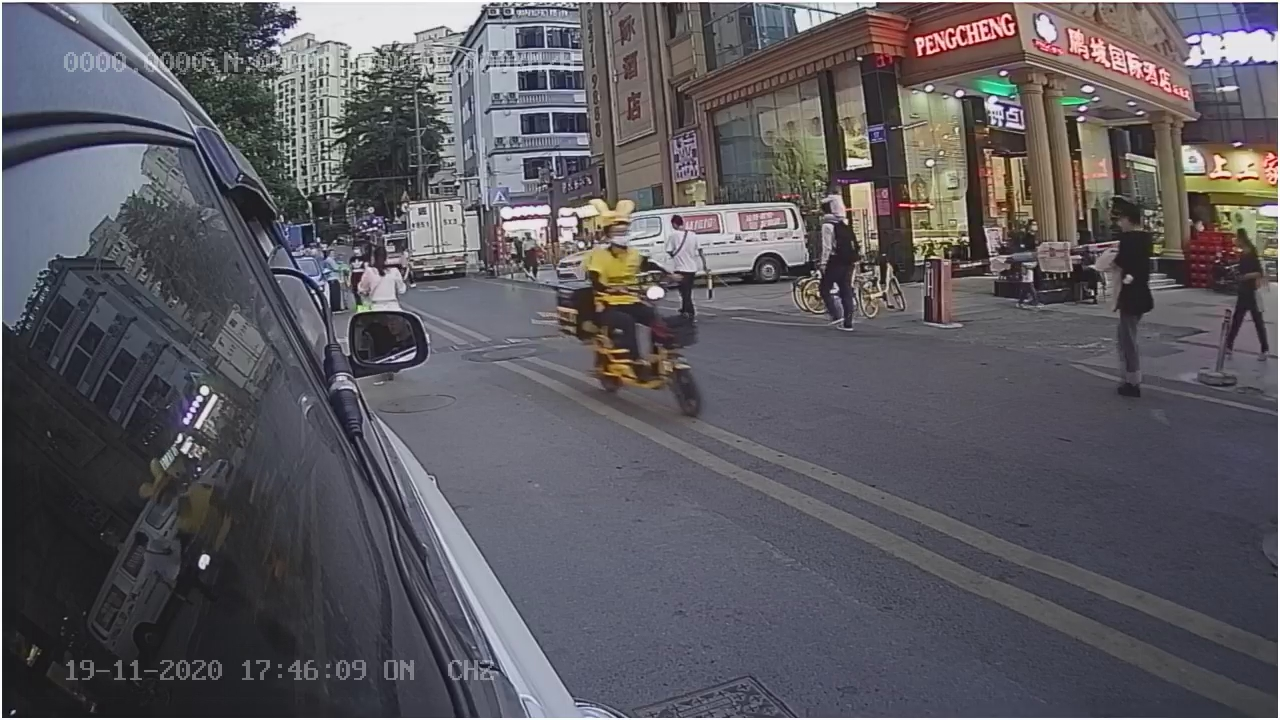person: (1094, 199, 1163, 408)
